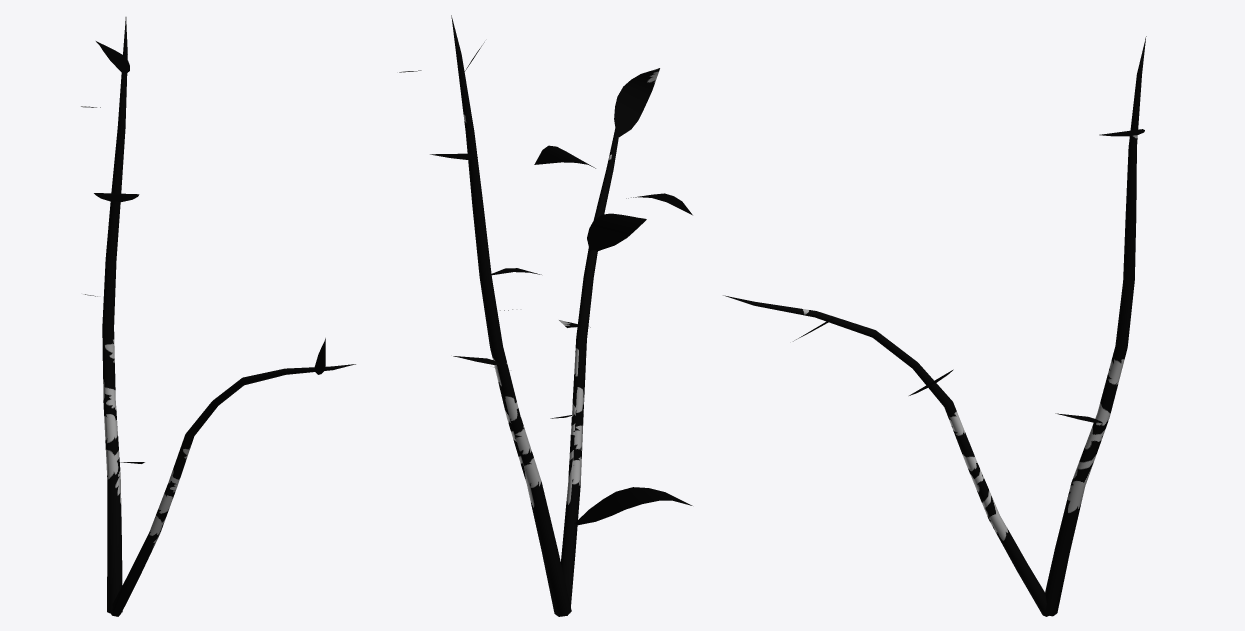
Rendered from SM_Plant_04.glb.
The picture shows the model from 3 angles, left to right: view 1: azimuth 30°, elevation 25°; view 2: azimuth 150°, elevation 25°; view 3: azimuth 270°, elevation 25°; orthographic projection. The views are drawn at different scales.
Visible parts, largest first — view 1: SM_Plant_04; view 2: SM_Plant_04; view 3: SM_Plant_04.
Boxes of the visible parts, x1,y1,x2,y2 form: SM_Plant_04: (80, 17, 355, 616); SM_Plant_04: (399, 15, 692, 616); SM_Plant_04: (723, 36, 1146, 616).
Bounding box in the file's own units: 0.5796 × 1.42 × 1.07.
1 material, 1 textured.
